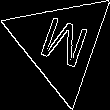M_S: (31, 12, 90, 75)
